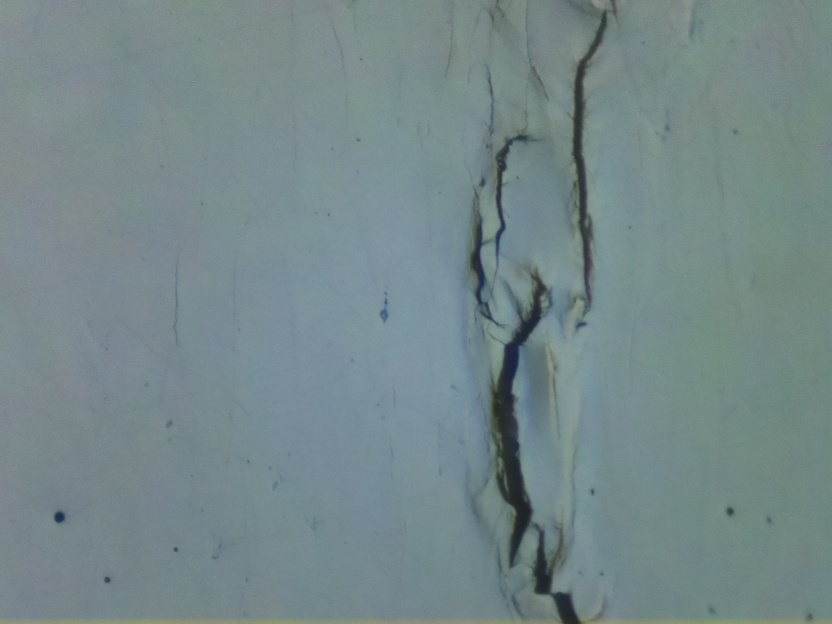crack: (490, 286, 547, 577), (568, 14, 611, 306), (492, 122, 546, 266), (534, 526, 576, 624), (462, 212, 493, 323)
